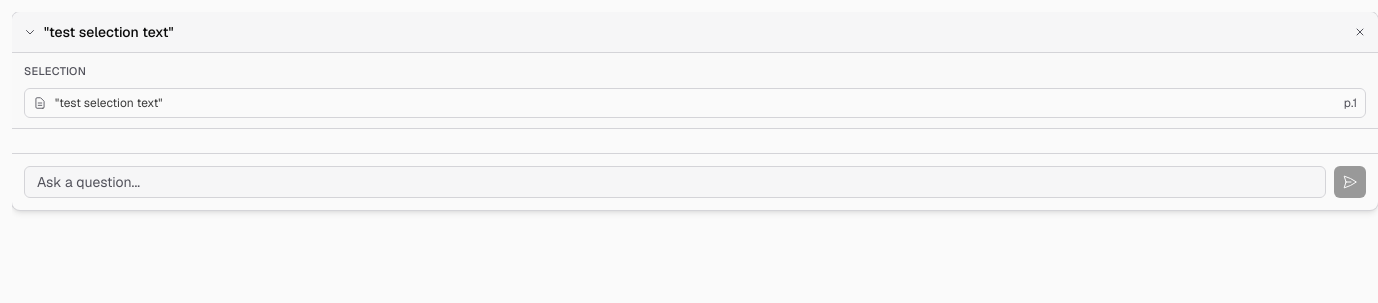
Test case: AIPopover › Bug A fix: error does NOT revert messages › keeps user message visible on network error
The width and height of the screenshot is (1378, 303).
Type "my question" into the field with placeholder "Ask a question..." at x=675, y=182, box [24, 166, 1326, 198]
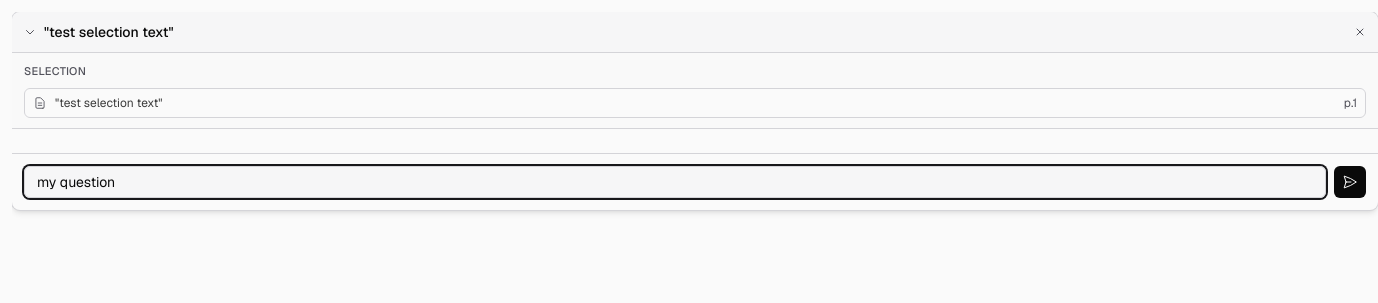
Submit the form with placeholder "Ask a question...", box [12, 152, 1377, 210]
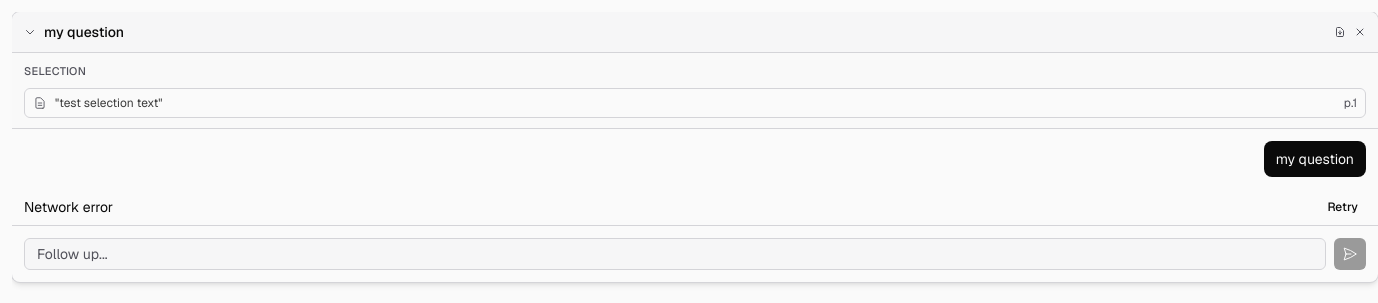
Check: the text "Network error" is shown, box [24, 196, 113, 216]
